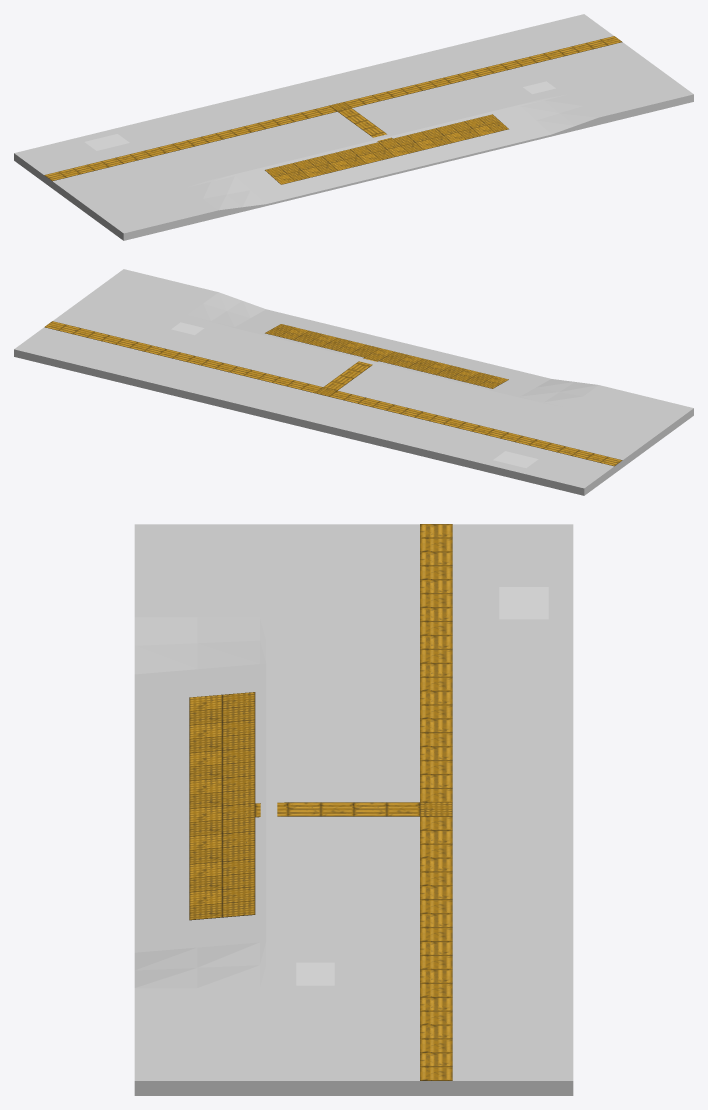
The model's file is StreetSidewalkRamp.fbx.
3 renders of one model, top to bottom at view 1: azimuth 30°, elevation 25°; view 2: azimuth 150°, elevation 25°; view 3: azimuth 270°, elevation 25°, orthographic. The views are drawn at different scales.
Parts seen in each view (by area): view 1: StreetSidewalkRamp_Body, StreetSidewalkRamp_Tactile; view 2: StreetSidewalkRamp_Body, StreetSidewalkRamp_Tactile; view 3: StreetSidewalkRamp_Body, StreetSidewalkRamp_Tactile.
Boxes of the visible parts, x1,y1,x2,y2 form: StreetSidewalkRamp_Body: (14,14,693,240); StreetSidewalkRamp_Tactile: (265,102,508,184); StreetSidewalkRamp_Body: (14,269,693,495); StreetSidewalkRamp_Tactile: (265,324,508,396); StreetSidewalkRamp_Body: (134,524,573,1095); StreetSidewalkRamp_Tactile: (189,692,452,920).
Size of the model in its own units: 12 by 0.154 by 4.
